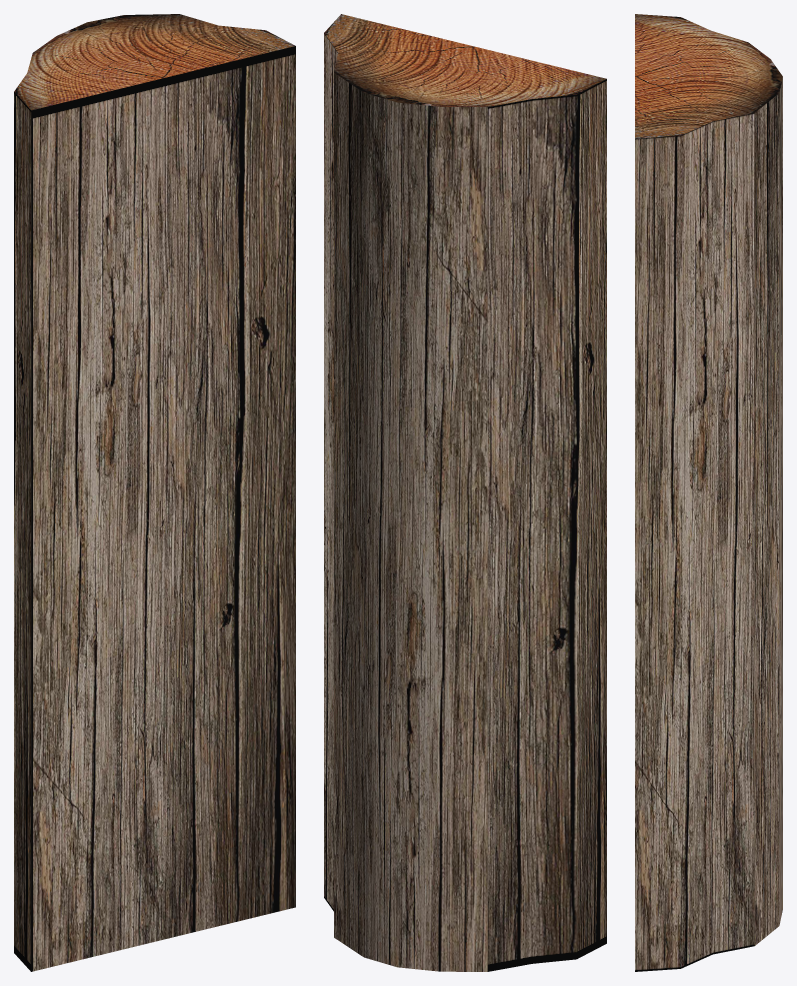
File: Log_Chopped.fbx
3 views of the same model, side by side, from view 1: azimuth 30°, elevation 25°; view 2: azimuth 150°, elevation 25°; view 3: azimuth 270°, elevation 25° (orthographic). The views are drawn at different scales.
Visible parts, largest first — view 1: pCylinder1; view 2: pCylinder1; view 3: pCylinder1.
Part boxes in pixels (x1,y1,x2,y2): pCylinder1: (14,14,295,971); pCylinder1: (324,14,606,971); pCylinder1: (635,14,782,971).
Bounding box in the file's own units: 1.7 × 5.29 × 0.8511.
